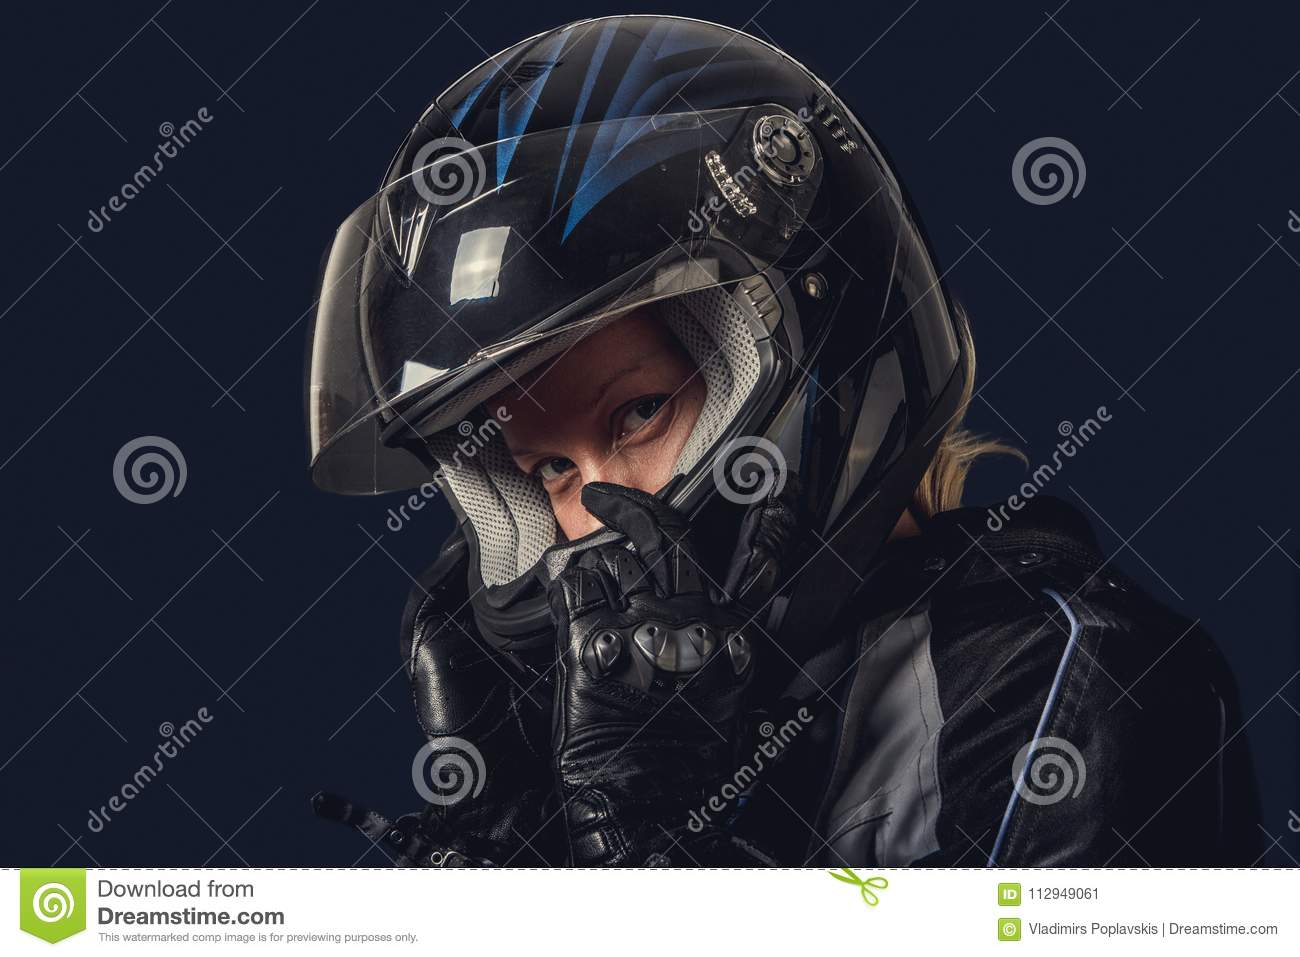helmet: (359, 37, 947, 606)
